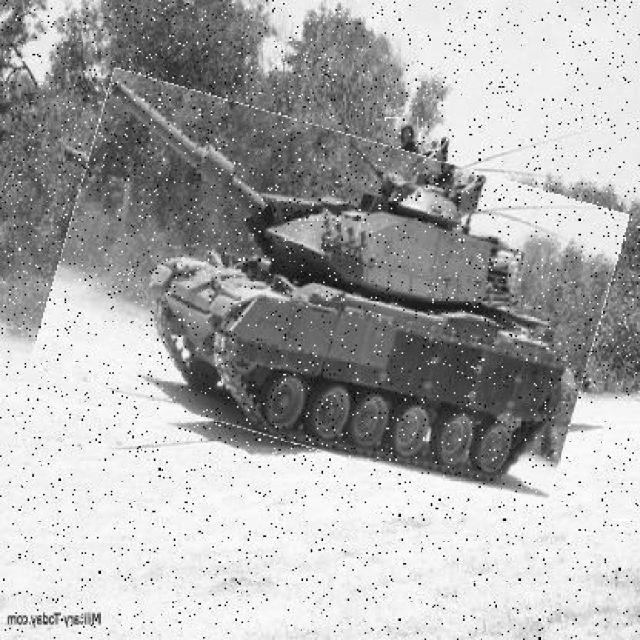Person: (377, 120, 423, 169)
Tank: (47, 103, 613, 481)
